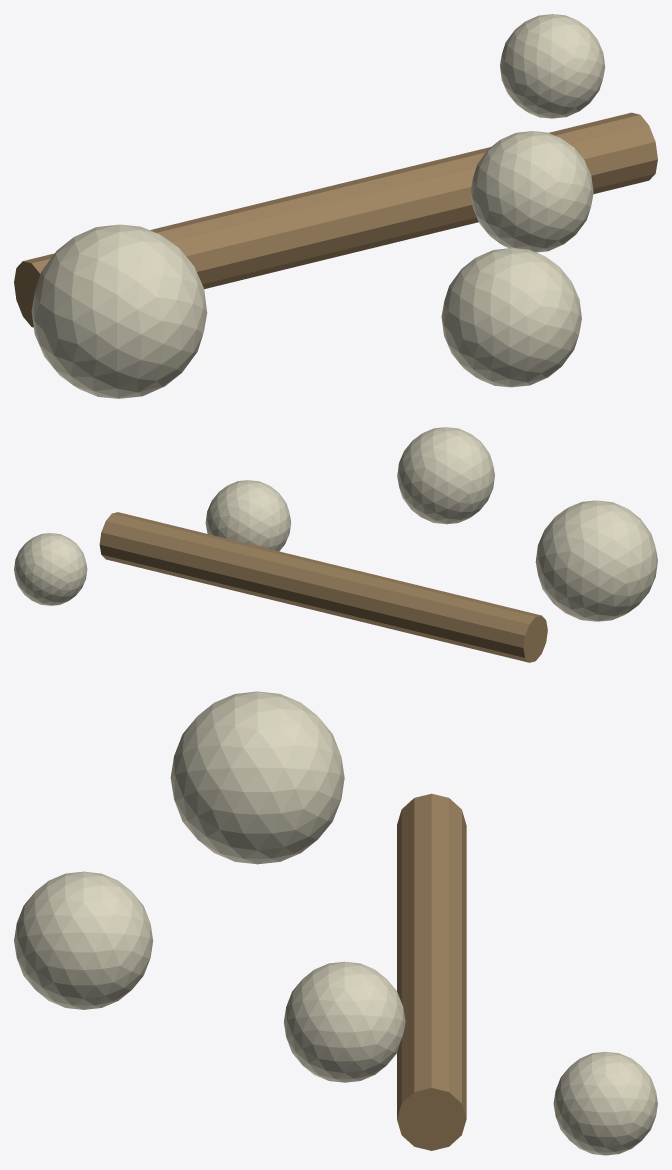
The model's file is debris_cluster.glb.
3 views of the same model, one above another, from view 1: azimuth 30°, elevation 25°; view 2: azimuth 150°, elevation 25°; view 3: azimuth 270°, elevation 25° (orthographic). The views are drawn at different scales.
Parts seen in each view (by area): view 1: world; view 2: world; view 3: world.
Part boxes in pixels (box(x1,y1,x2,y2)): world: box(14, 14, 657, 398); world: box(14, 427, 657, 662); world: box(14, 691, 657, 1155).
Size of the model in its own units: 0.48 by 0.1 by 0.37.
